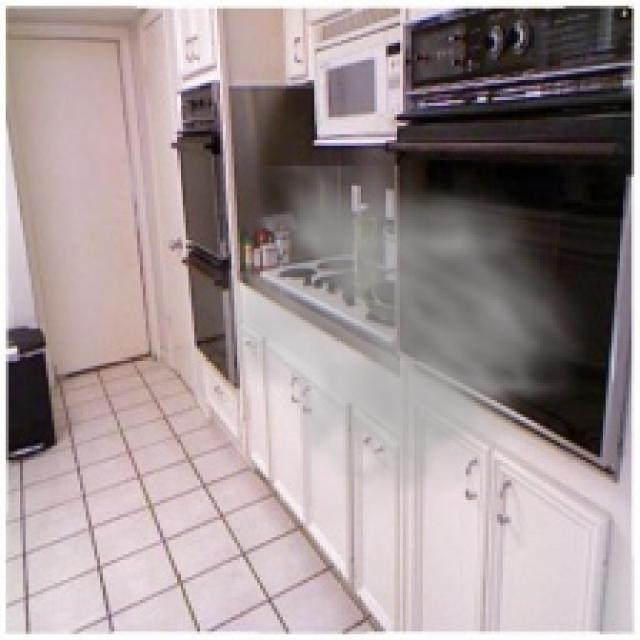Smoke: (195, 166, 600, 532)
